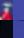potion: (0, 0, 13, 20)
